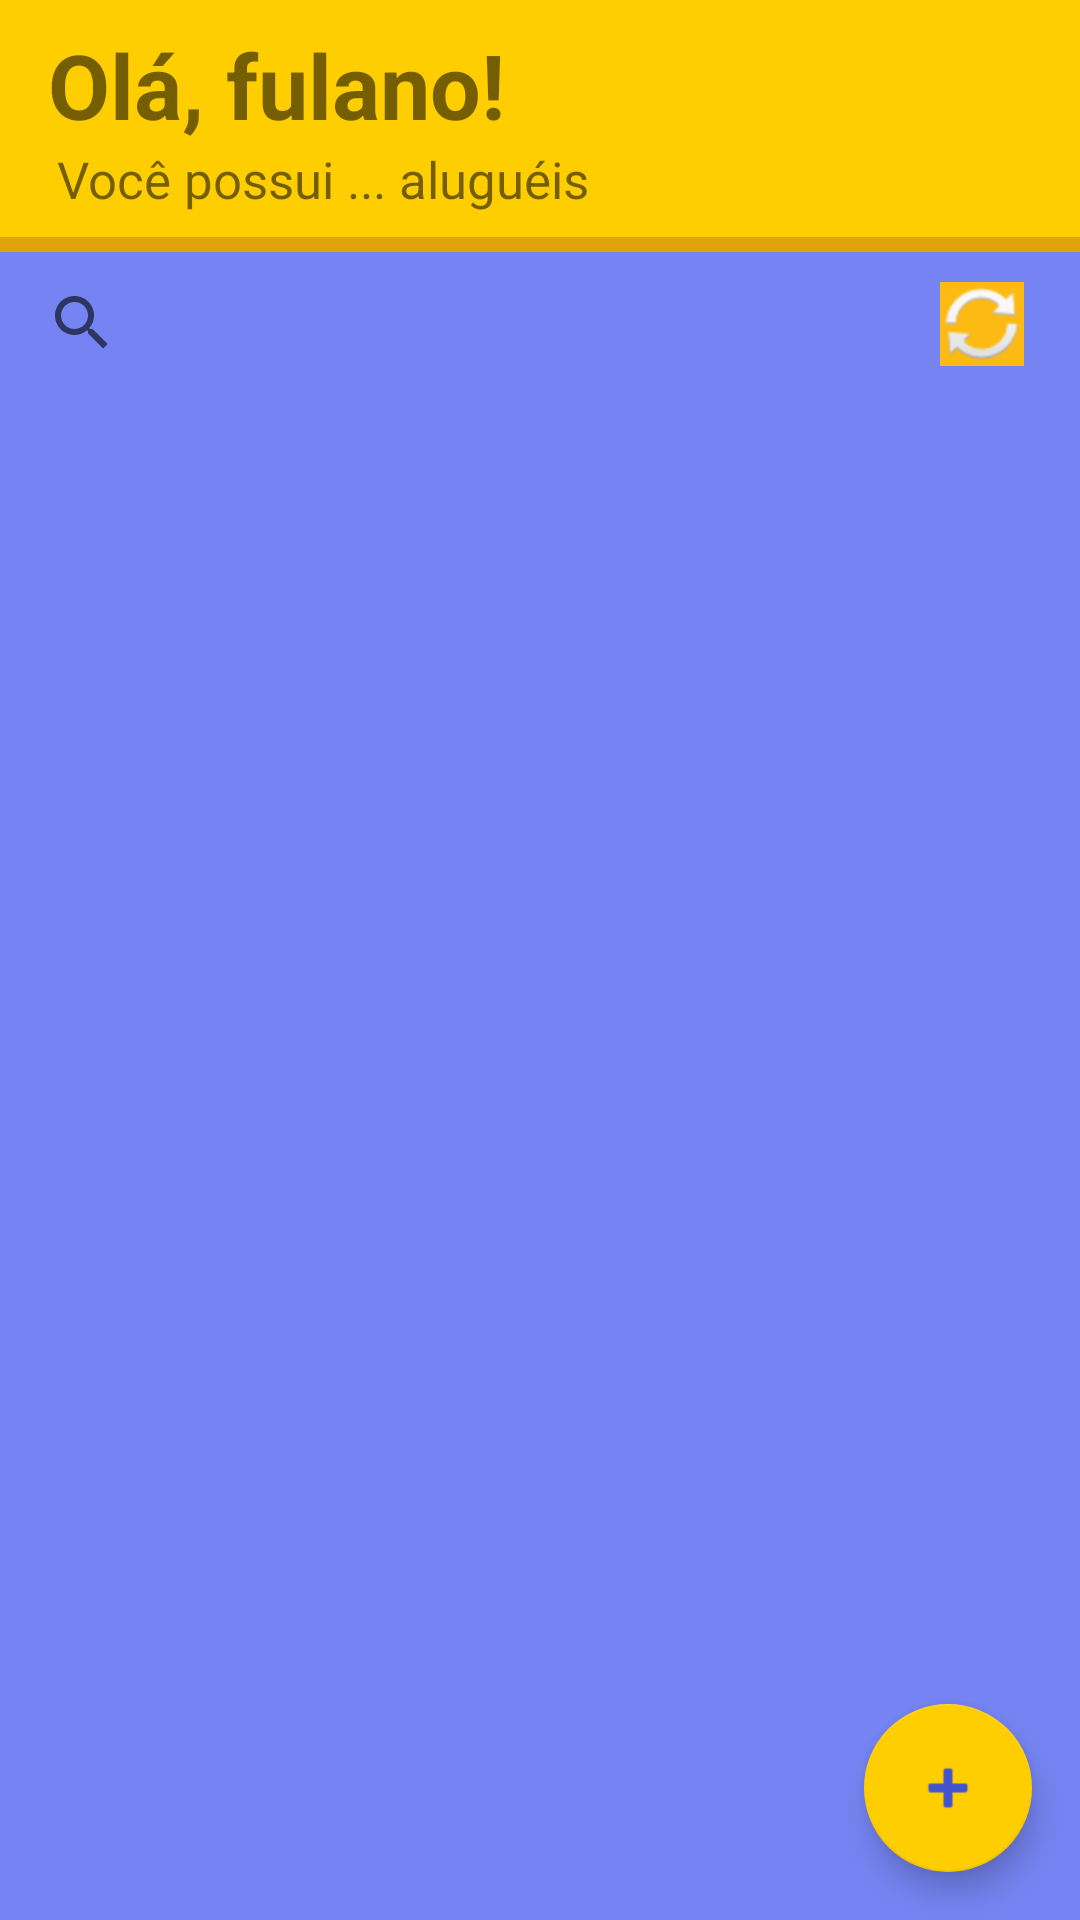

Where to tap for icons on this 1080x1920 app screen, as point (x, y):
add: point (948, 1788)
popup sync: point (982, 324)
